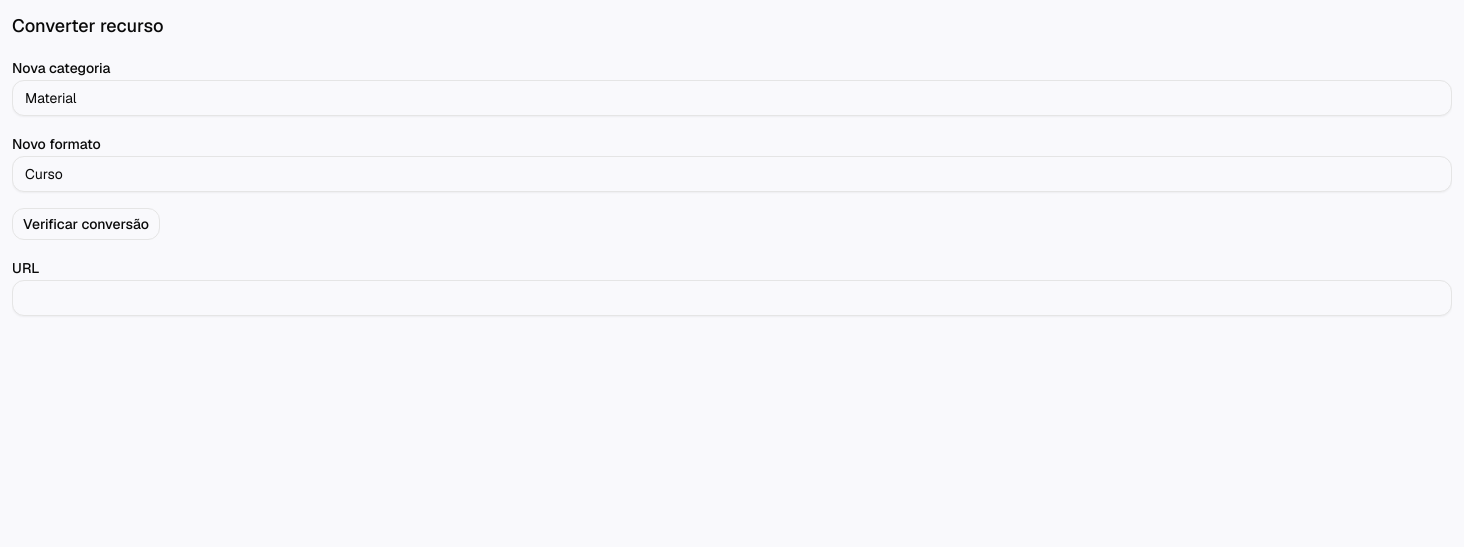
Test: ResourceConversion › requires confirmation when the preview discards fields
The image size is (1464, 547).
Step 1. Select "Prática" in the dropdown labelled "Nova categoria" → point(732, 98), box [12, 80, 1452, 116]
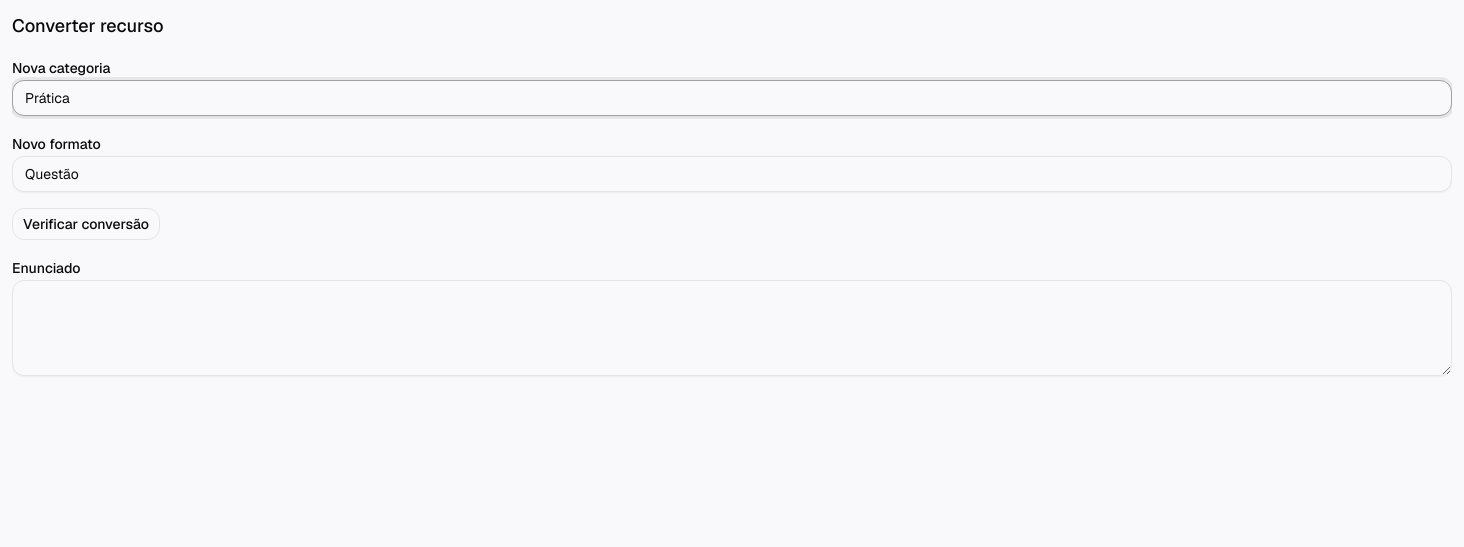
Step 2. Select "Questão" in the dropdown labelled "Novo formato" → point(732, 174), box [12, 156, 1452, 192]
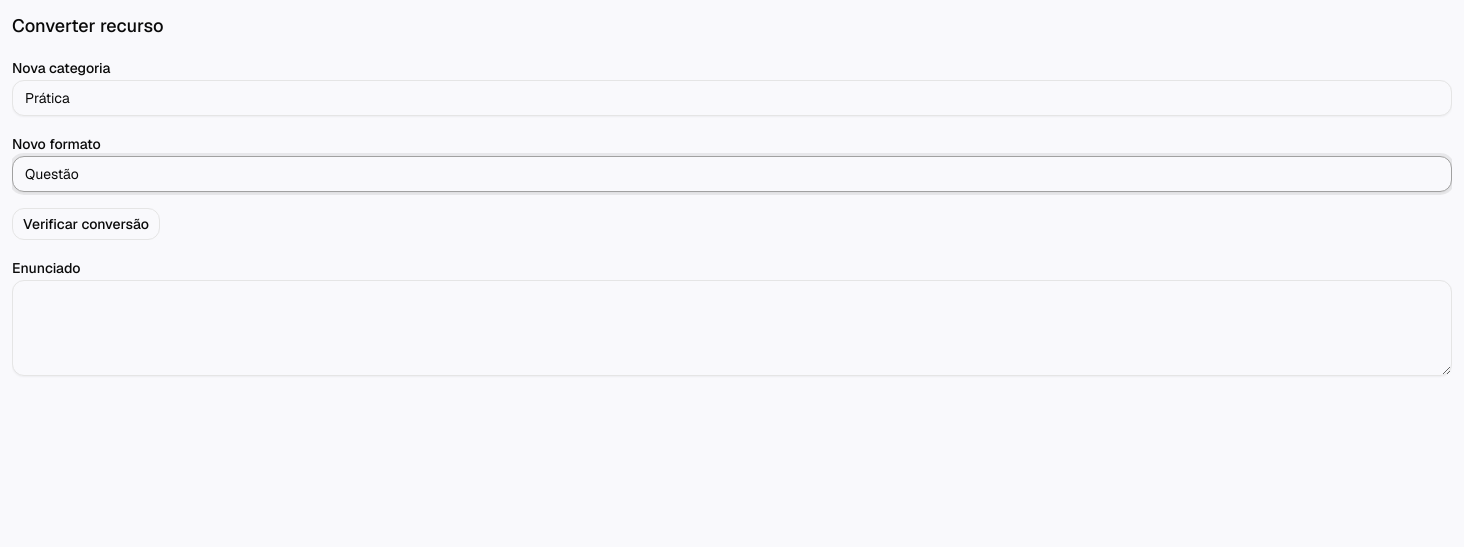
Step 3. Click the button "Verificar conversão" → point(86, 224), box [12, 208, 160, 240]
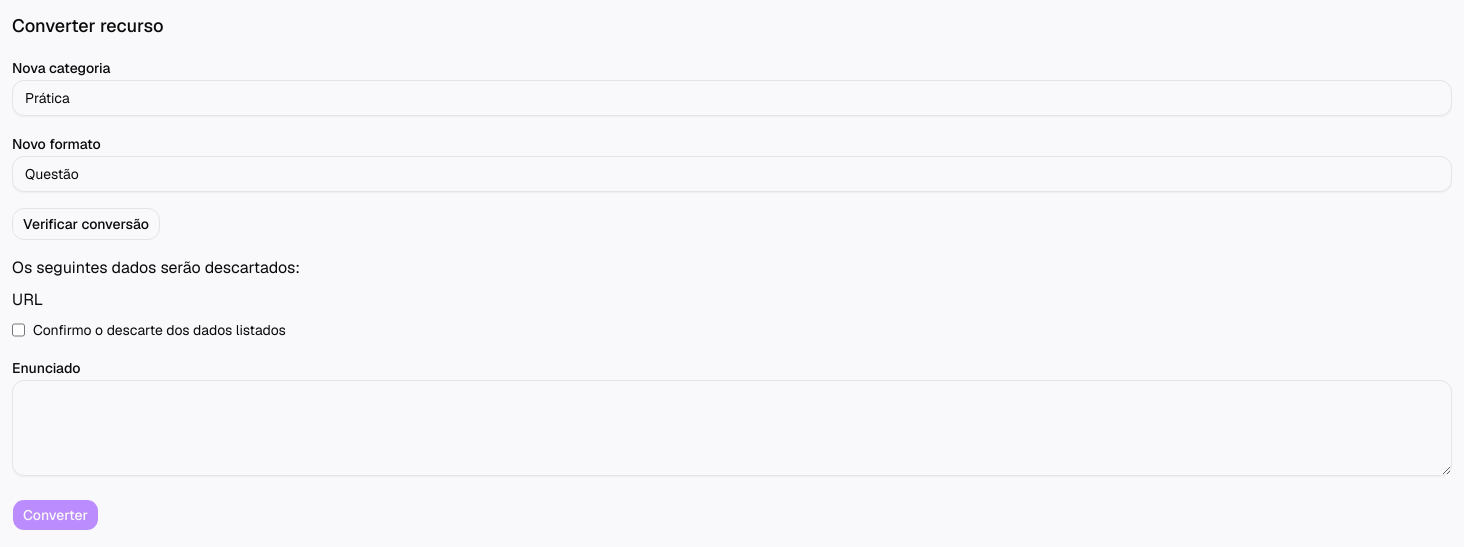
Result: the list item "URL" is shown at [12, 289, 43, 310]
Result: the checkbox labelled "Confirmo o descarte dos dados listados" is shown at [12, 320, 25, 340]
